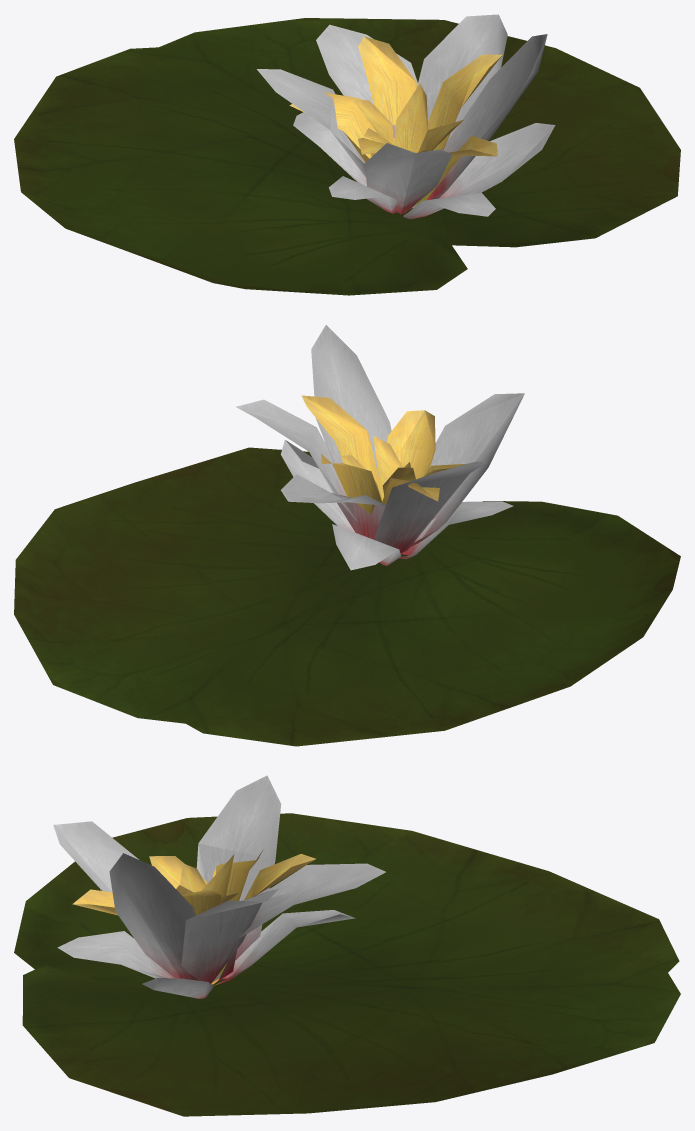
Rendered from lillypad1_6_5_lod1.fbx.
3 views of the same model, one above another, from view 1: azimuth 30°, elevation 25°; view 2: azimuth 150°, elevation 25°; view 3: azimuth 270°, elevation 25° (orthographic). The views are drawn at different scales.
Visible parts, largest first — view 1: Mesh Object; view 2: Mesh Object; view 3: Mesh Object.
Part boxes in pixels (<box>): Mesh Object: <box>14,14,680,295</box>; Mesh Object: <box>14,325,680,746</box>; Mesh Object: <box>14,775,680,1116</box>.
Size of the model in its own units: 1.01 by 0.3041 by 0.9748.
